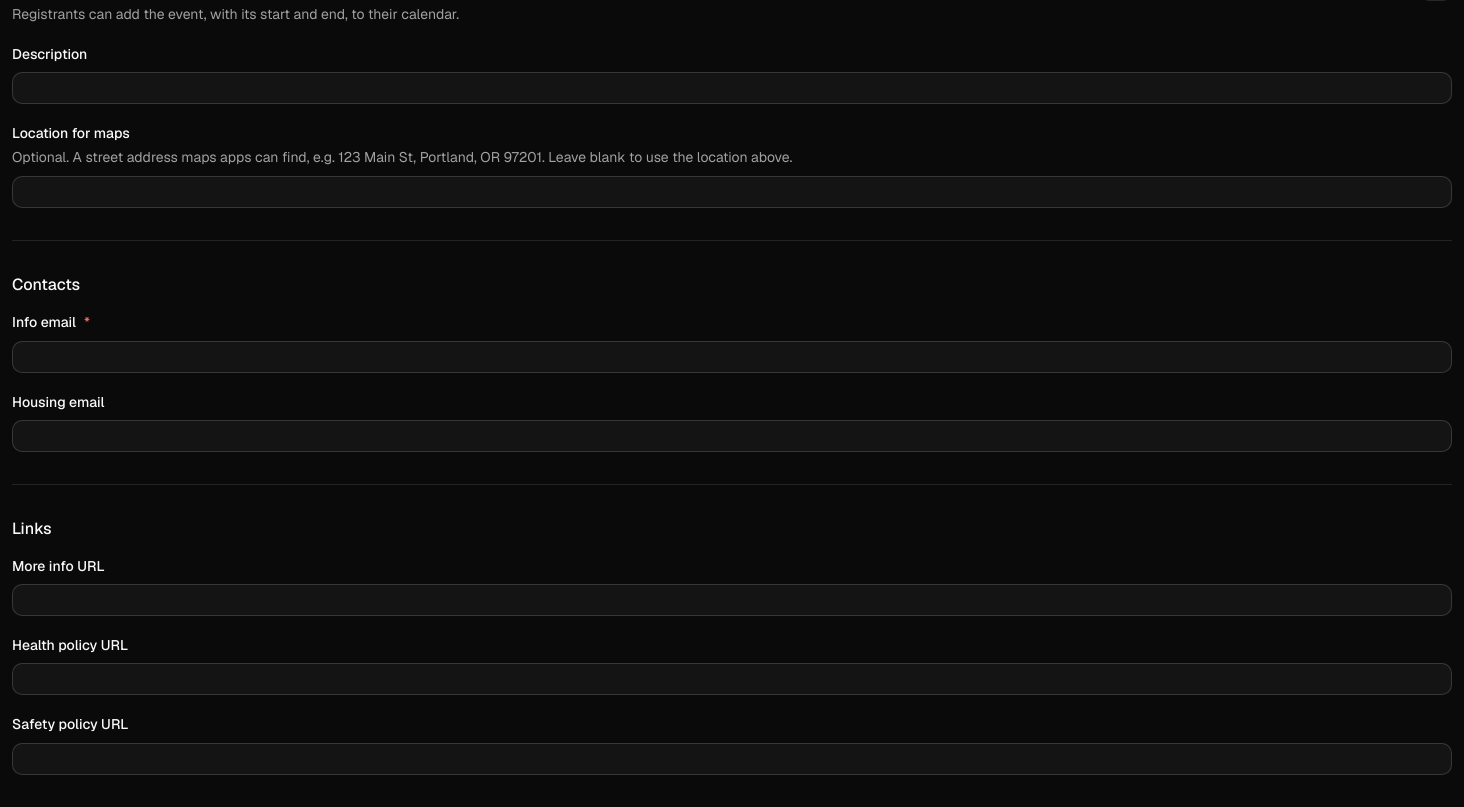
Scenario: EventForm › flags a malformed housing email and doesn't save it
(page scrolled)
Step 1. Type "housing-at-example" into the field with id "event-contact-housing" → (732, 436), box [12,420,1452,452]
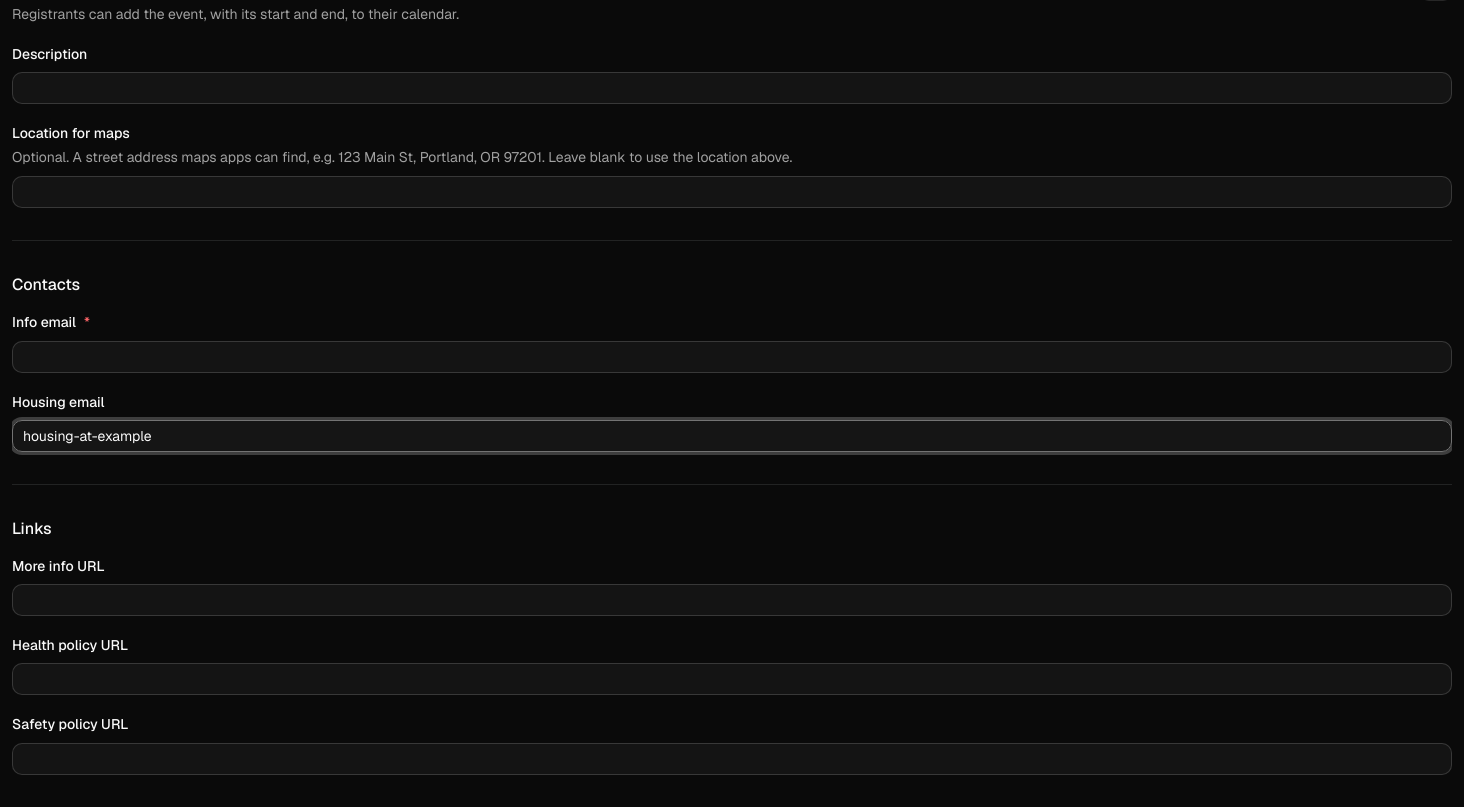
Step 2. Press Tab
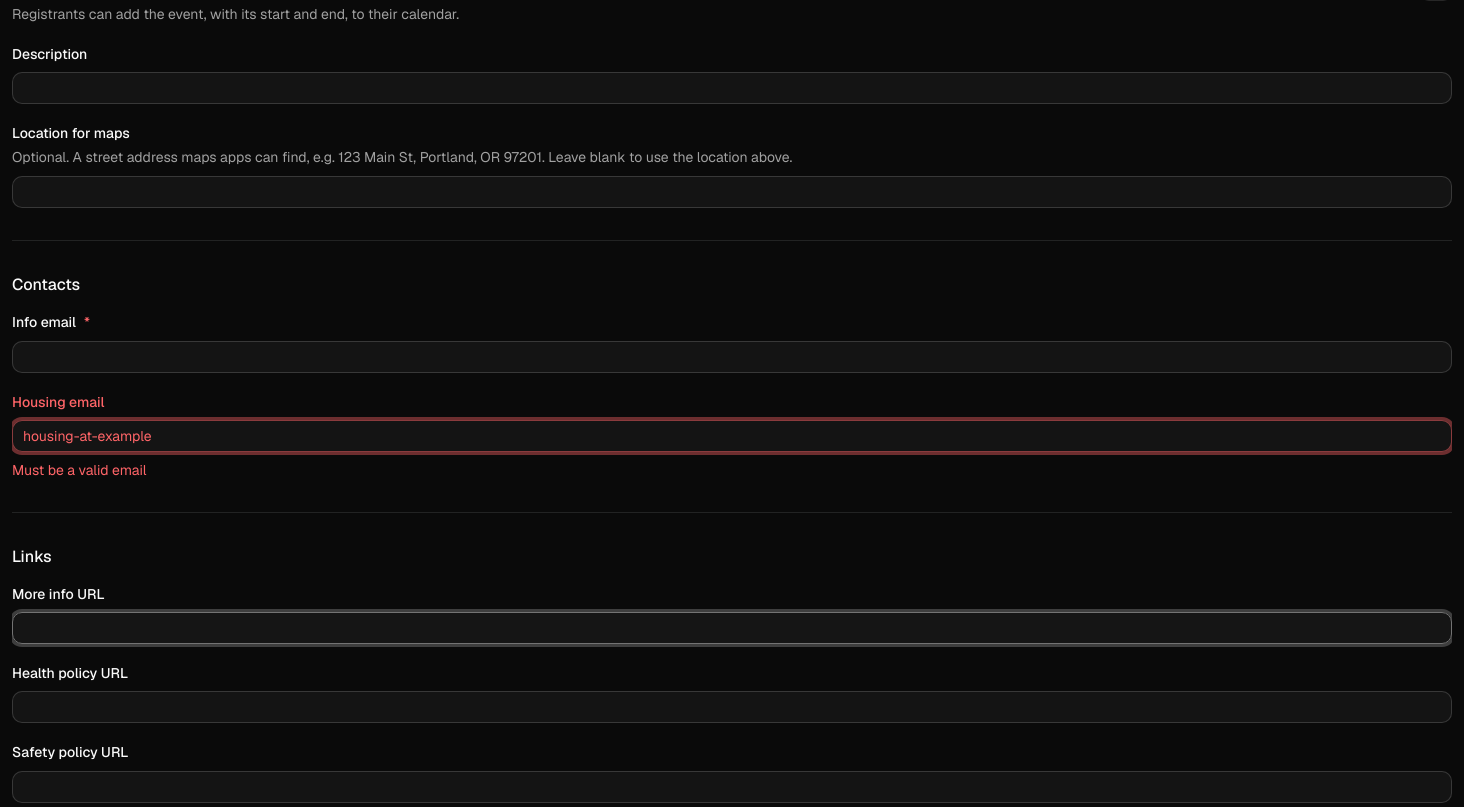
Expected: the message reads "Must be a valid email", [12,461,146,479]
